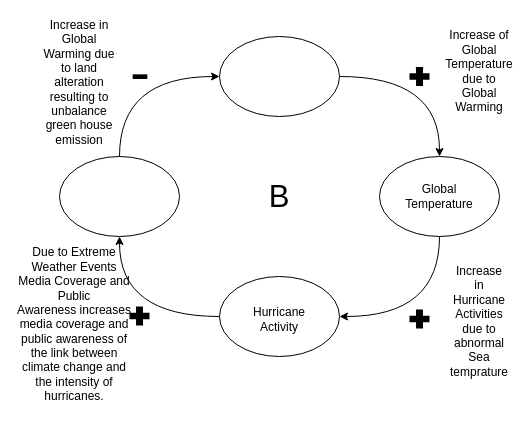
This 530x421 diagram has some shape labels left out. Here are the shapes that lost their labels. From the top down, the centre of each, then its label:
point 279,76: Global Warming
point 119,196: Media Coverage and Public Awareness
